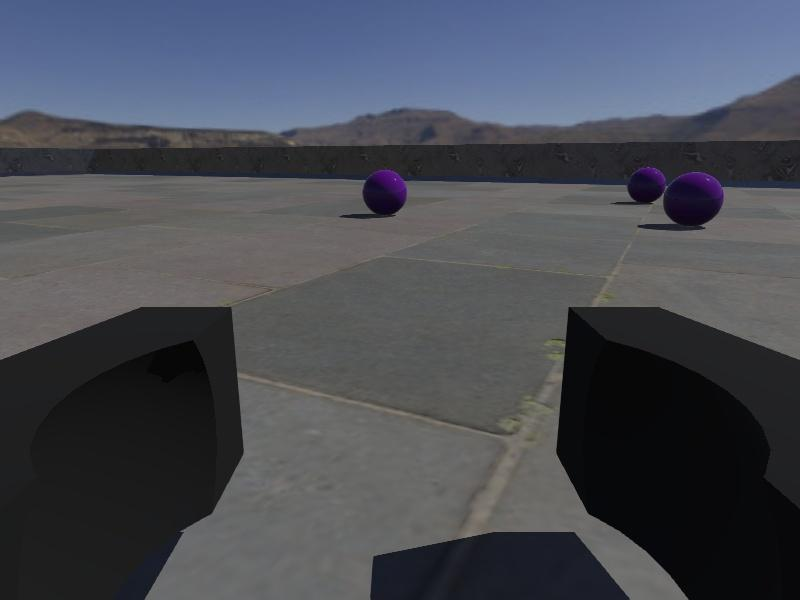violet ball: (663, 171, 724, 226), (362, 169, 408, 217), (627, 166, 665, 203)
